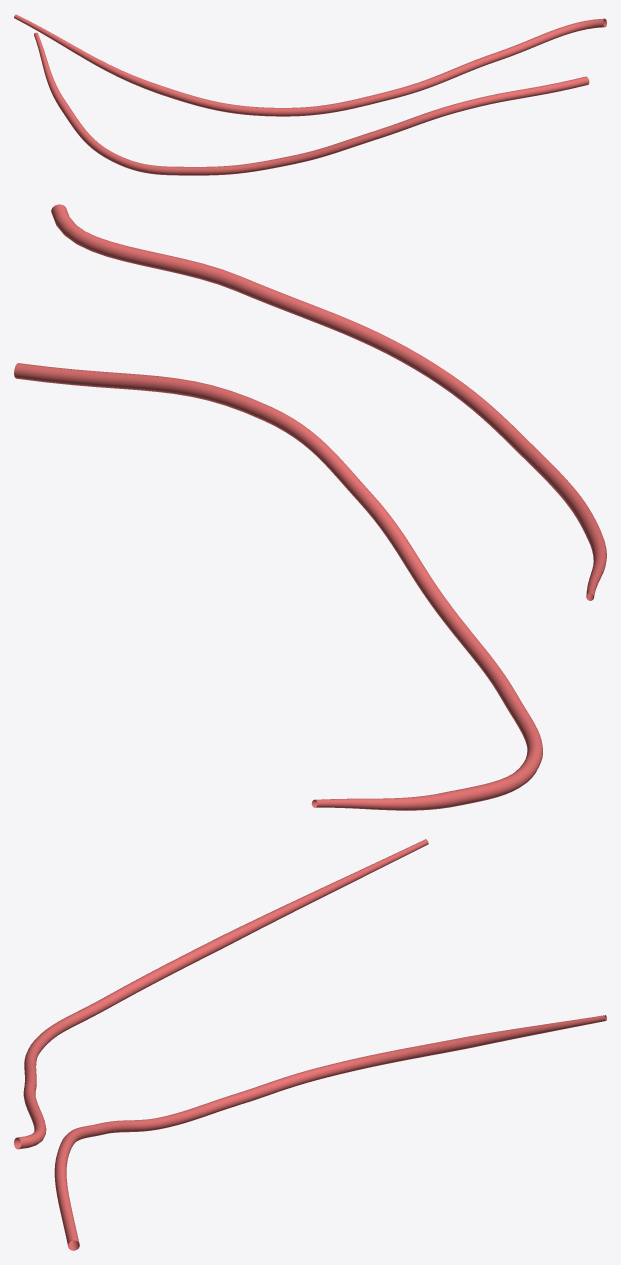
File: Lateral_pontine_branches_basilar_artery_right.glb
3 renders of one model, top to bottom at view 1: azimuth 30°, elevation 25°; view 2: azimuth 150°, elevation 25°; view 3: azimuth 270°, elevation 25°, orthographic. The views are drawn at different scales.
Parts seen in each view (by area): view 1: Lateral_pontine_branches_of_basilar_artery.r_BezierCurve.239; view 2: Lateral_pontine_branches_of_basilar_artery.r_BezierCurve.239; view 3: Lateral_pontine_branches_of_basilar_artery.r_BezierCurve.239.
Boxes of the visible parts, x1,y1,x2,y2 form: Lateral_pontine_branches_of_basilar_artery.r_BezierCurve.239: [14, 14, 606, 175]; Lateral_pontine_branches_of_basilar_artery.r_BezierCurve.239: [14, 204, 606, 810]; Lateral_pontine_branches_of_basilar_artery.r_BezierCurve.239: [14, 839, 606, 1250].
Size of the model in its own units: 0.0236 by 0.00716 by 0.0198.
